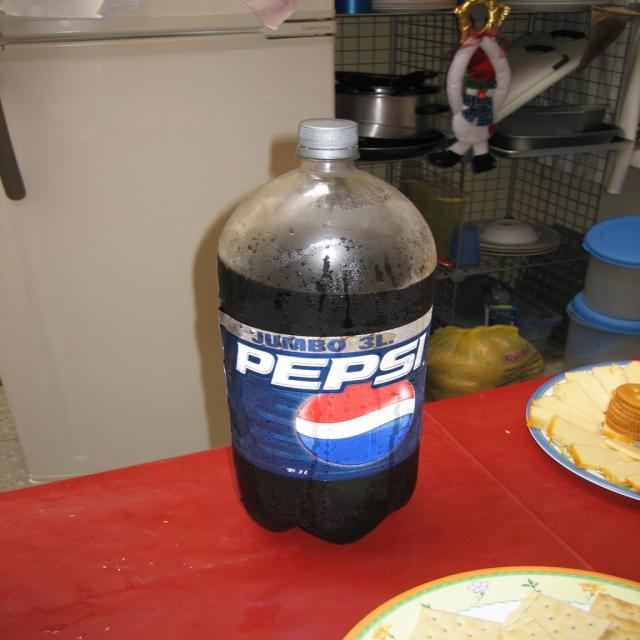pepsi: (291, 380, 419, 471)
